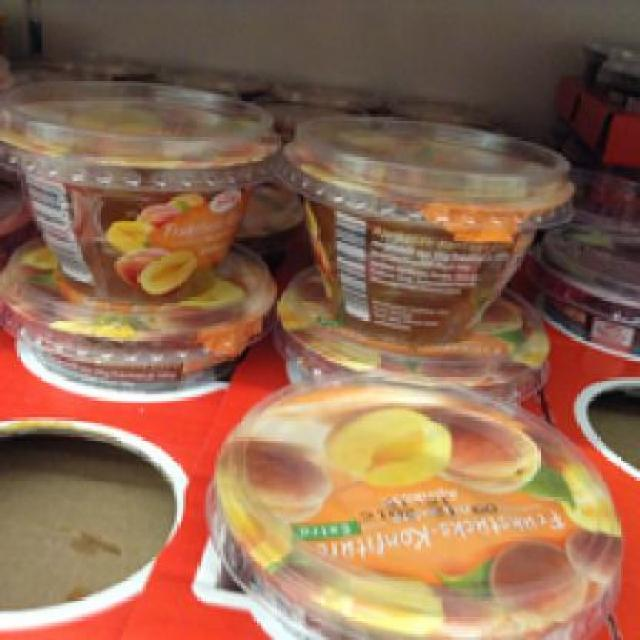Jam: (197, 368, 620, 638), (280, 112, 577, 328), (0, 76, 275, 298)
